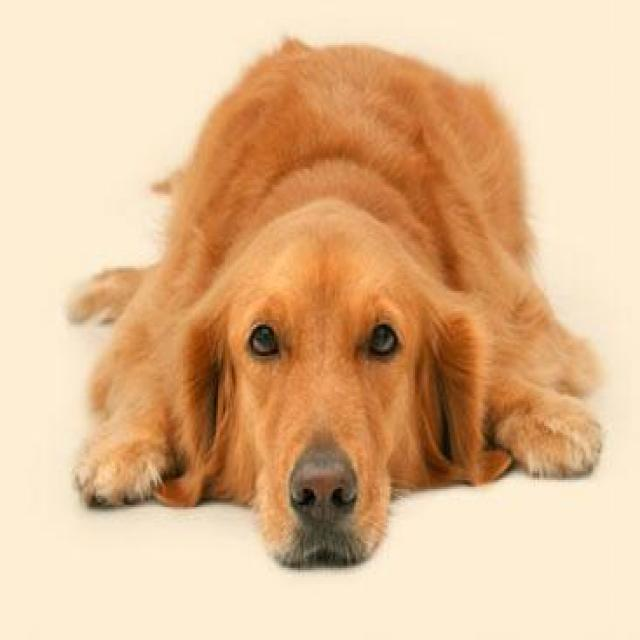good: (49, 32, 605, 566)
